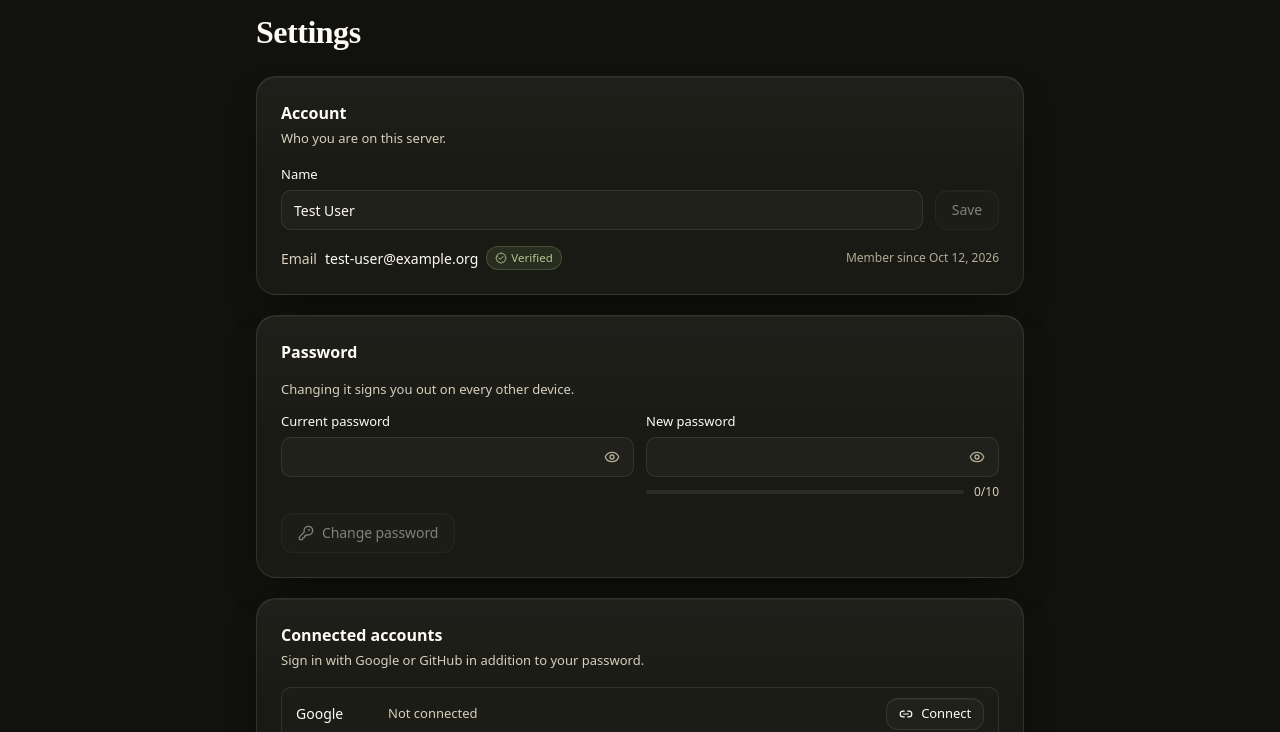
it: SettingsPage › renames the account and reports a wrong current password
Step 1. Replace the text in the field labelled "Name" with "Ada" → (602, 210), box [281,190,923,230]
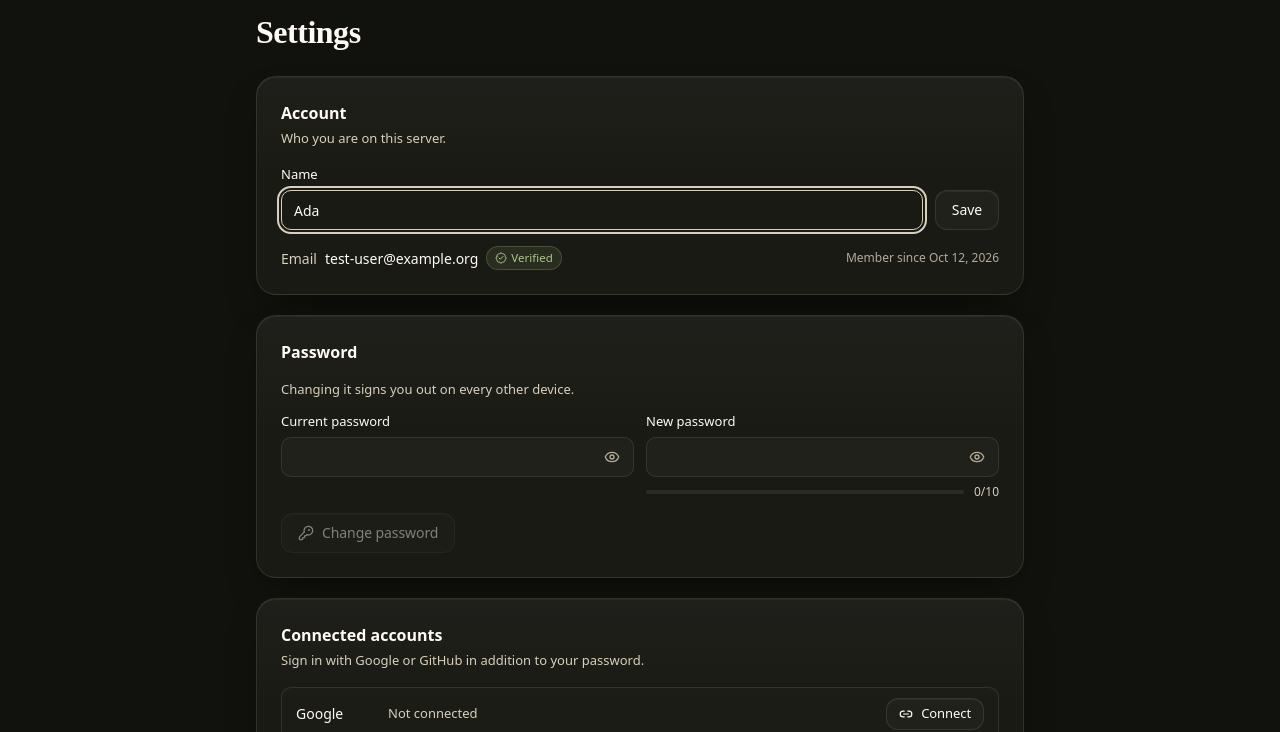
Step 2. Click the button "Save" → (967, 210), box [935,190,999,230]
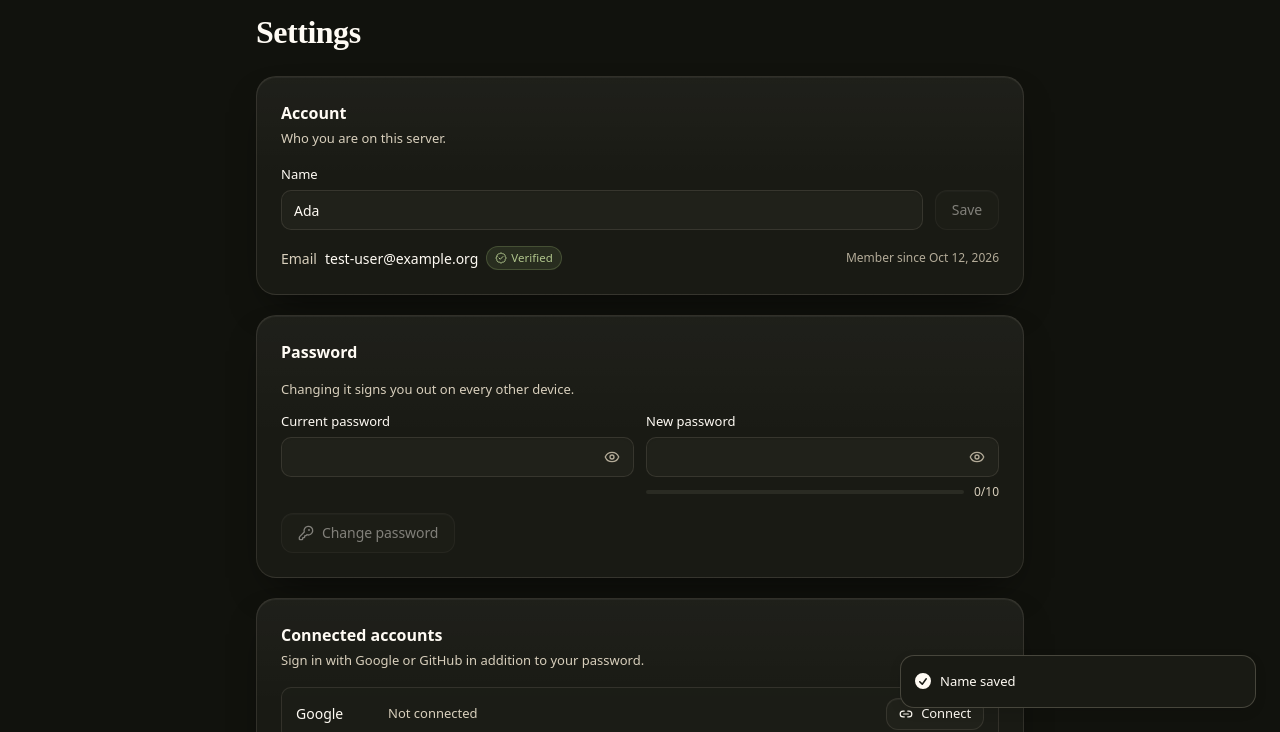
Step 3. Type "wrong password!" into the password field labelled "Current password" → (458, 457), box [281,437,634,477]
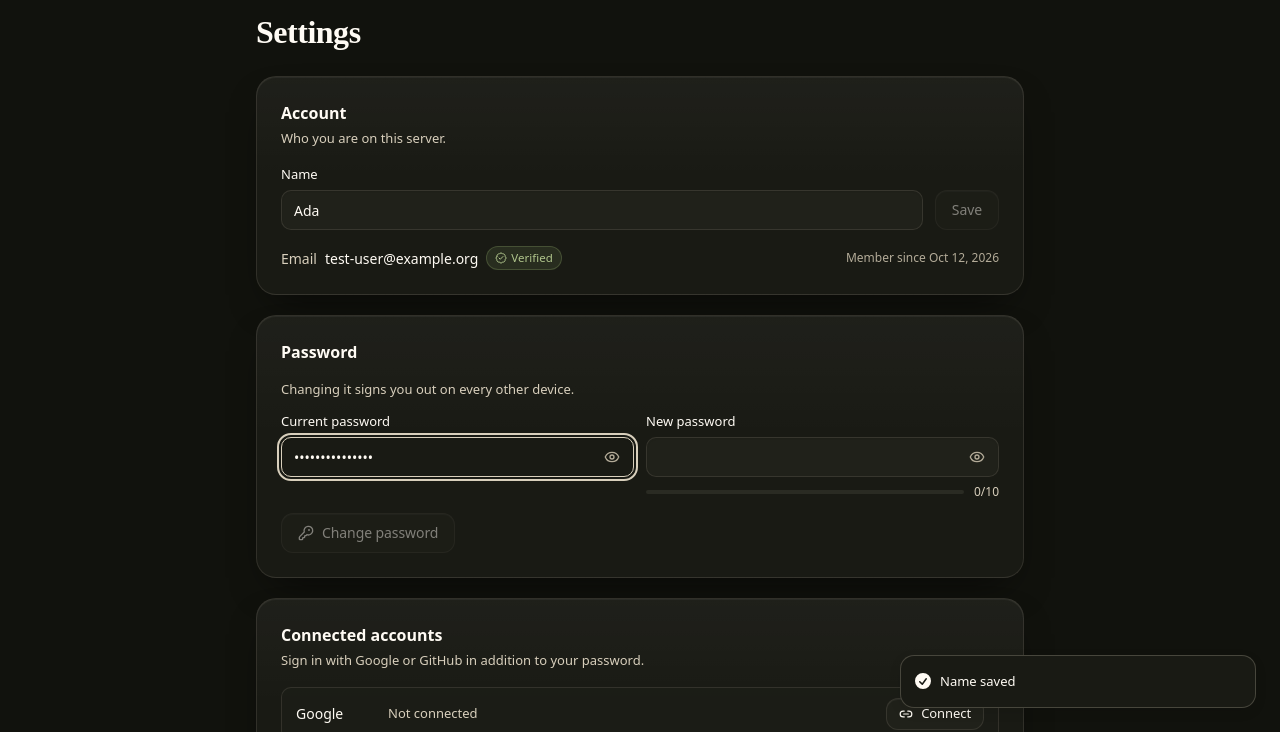
Step 4. Type "a new long password" into the password field labelled "New password" → (822, 457), box [646,437,999,477]
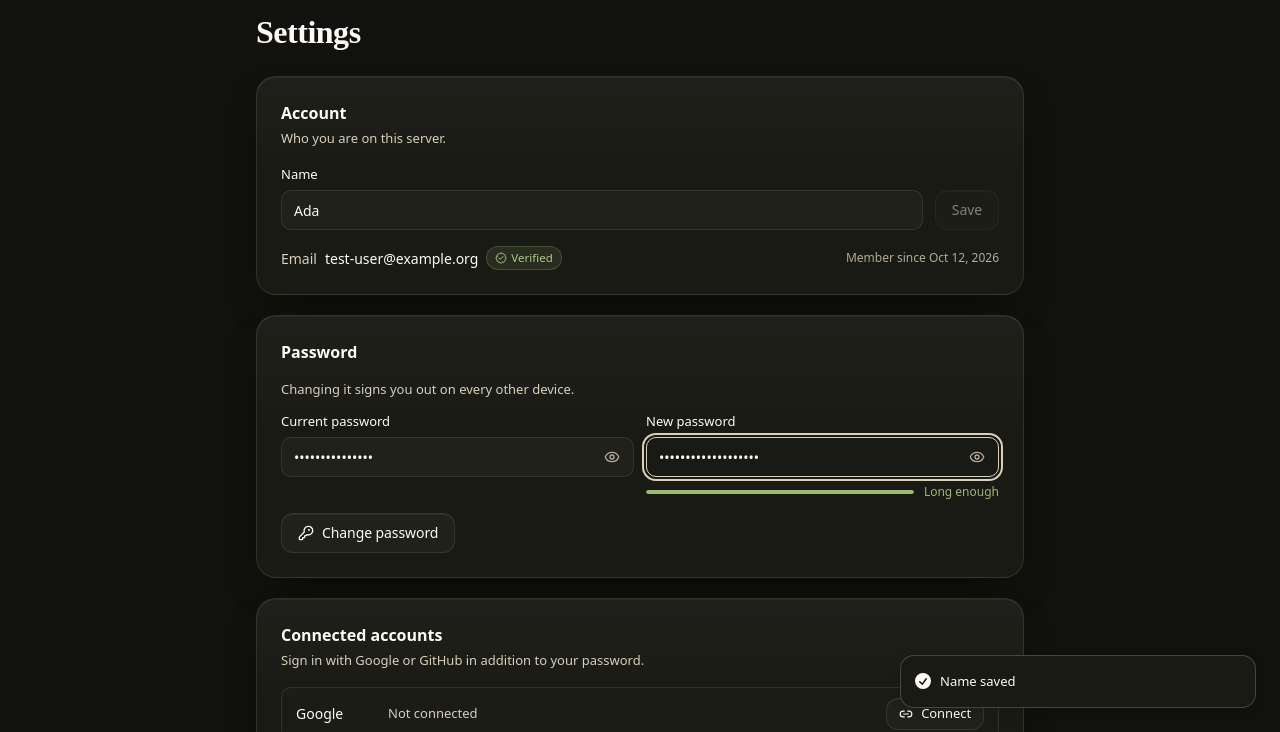
Step 5. Click the button "Change password" → (368, 533), box [281,513,455,553]
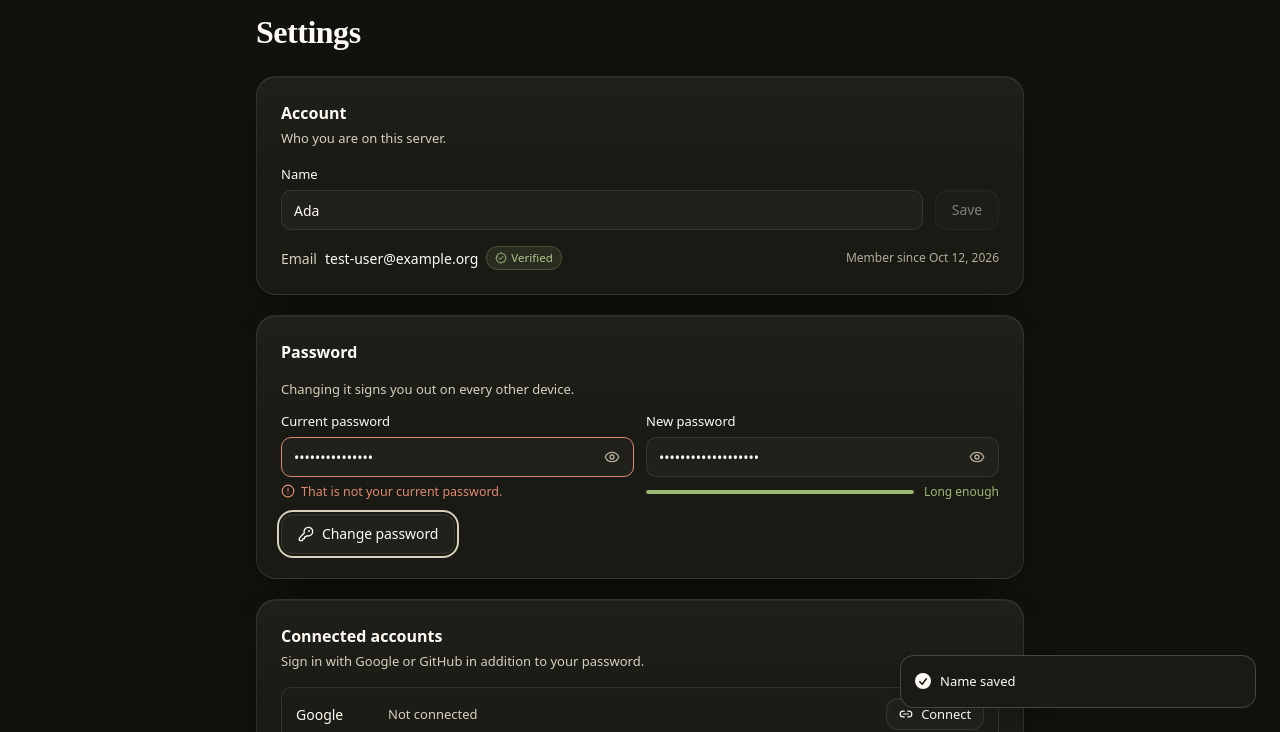
Now the text "That is not your current password." is shown, box [301,483,502,502]
